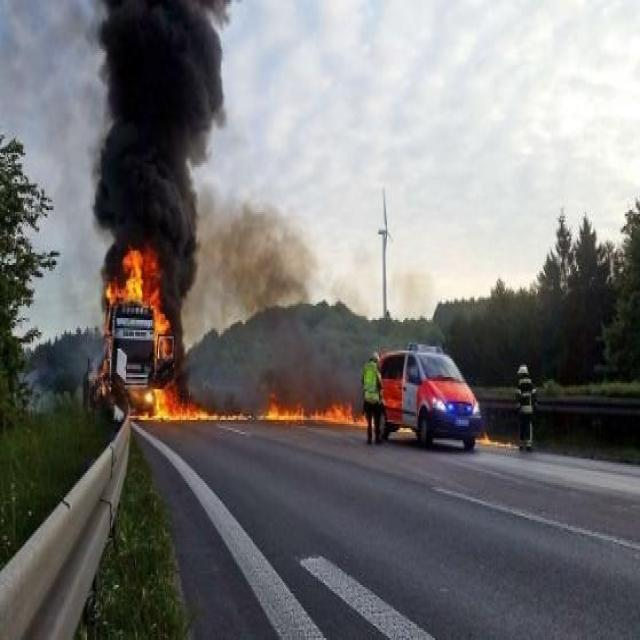Fire: (105, 247, 248, 422), (258, 393, 372, 430), (476, 428, 518, 450)
Smoke: (86, 2, 364, 416)
